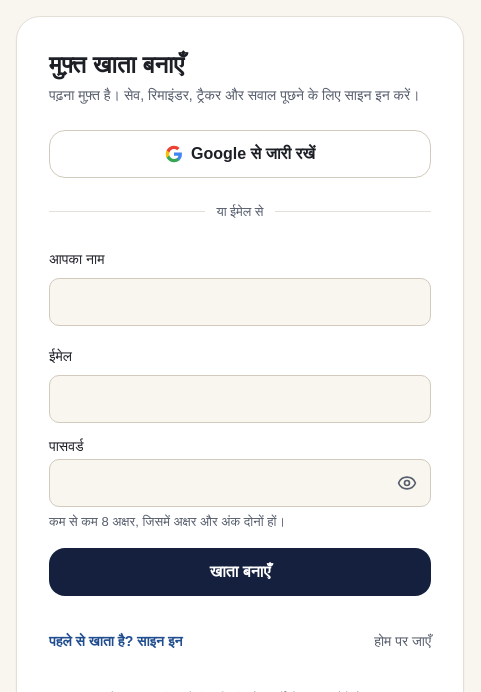
Scenario: Login page › sign-up success asks the reader to confirm their email
This screenshot has width=481, height=692.
Type "राम" into the field labelled "आपका नाम" at (240, 302), box [49,278,431,326]
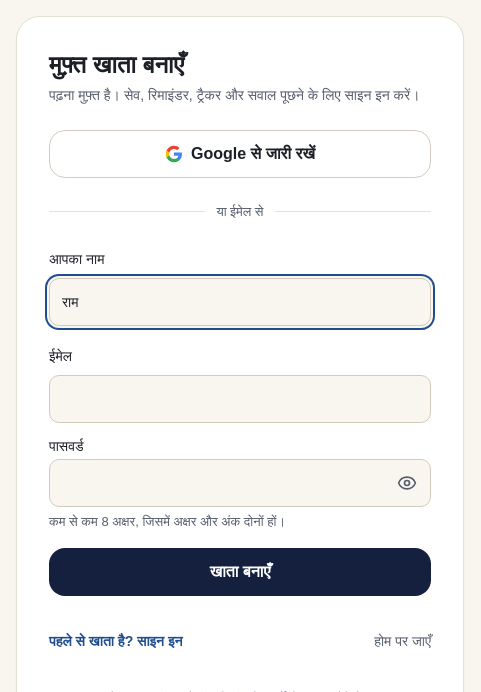
Type "ram@example.test" into the field labelled "ईमेल" at (240, 399), box [49,375,431,423]
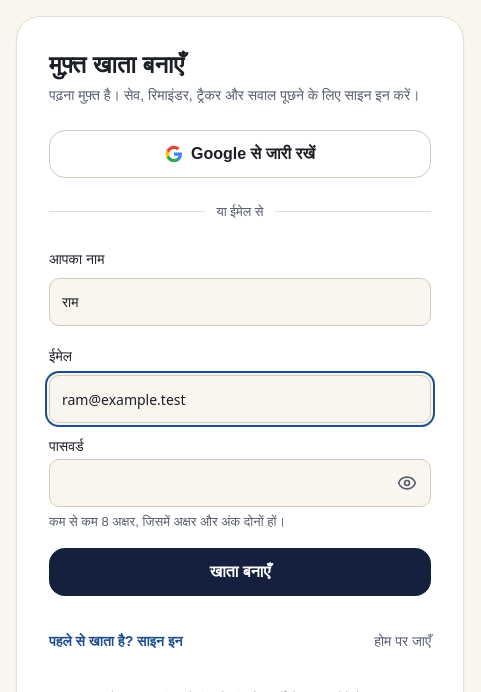
Type "barmer2026" into the password field labelled "पासवर्ड" at (240, 483), box [49,459,431,507]
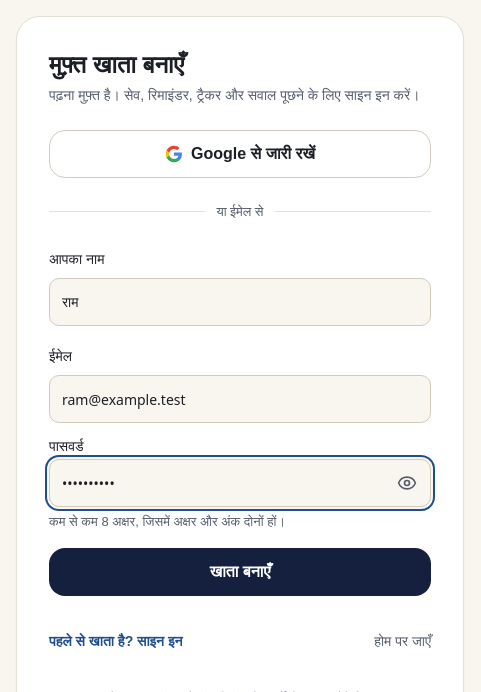
Click the button "खाता बनाएँ" at (240, 572), box [49,548,431,596]
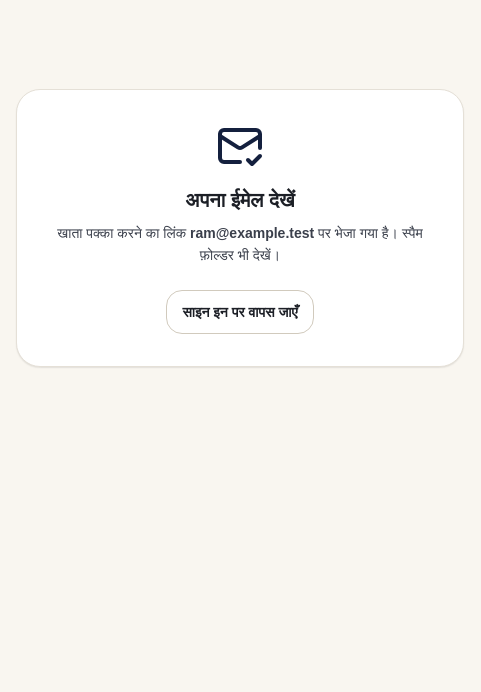
Check: the heading "अपना ईमेल देखें" is shown, box [185,189,295,211]
Check: the text "ram@example.test" is shown, box [190,225,314,241]
